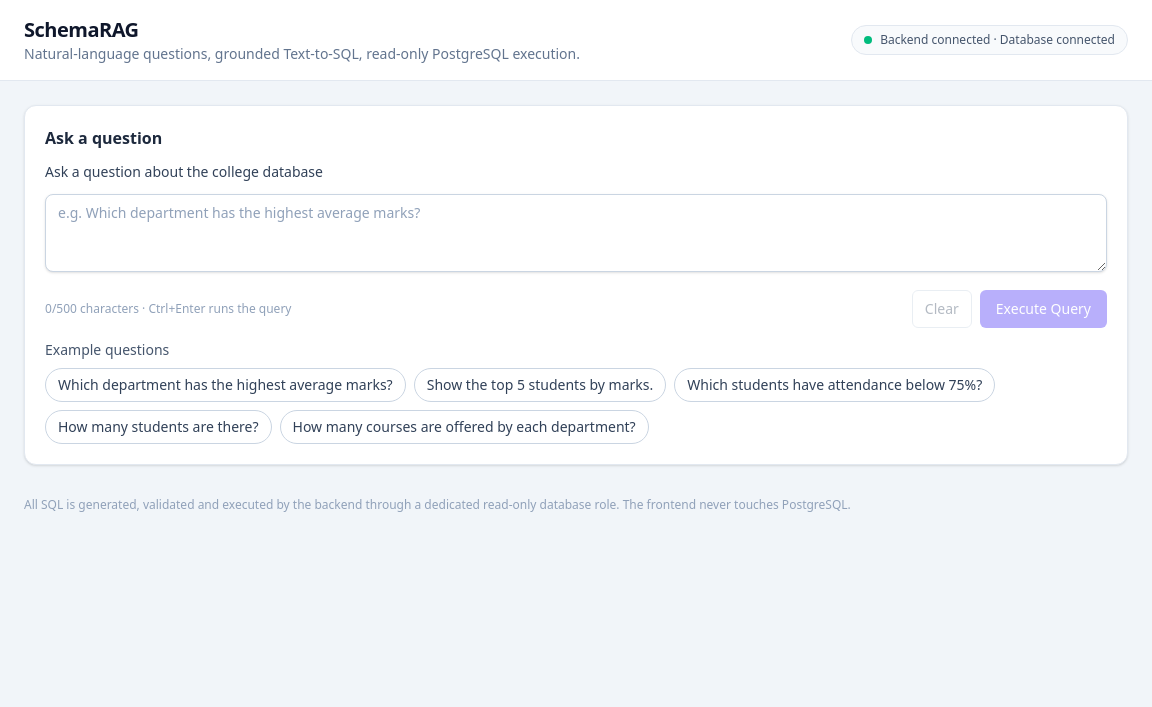
Test case: SchemaRAG App › executes a query through POST /api/query and renders results
Type "How many students are there?" into the text box labelled "Ask a question about the college database" at (576, 233), box [45,194,1107,272]
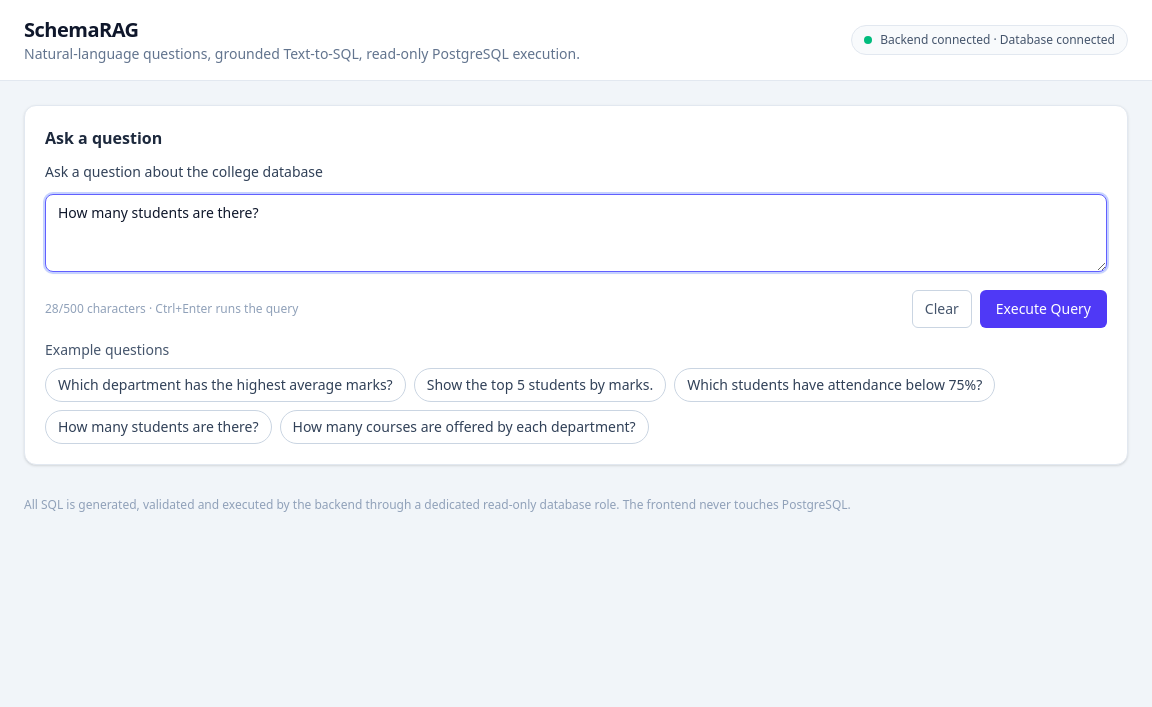
Click the button with test id "execute-button" at (1043, 309), box [980,290,1107,328]
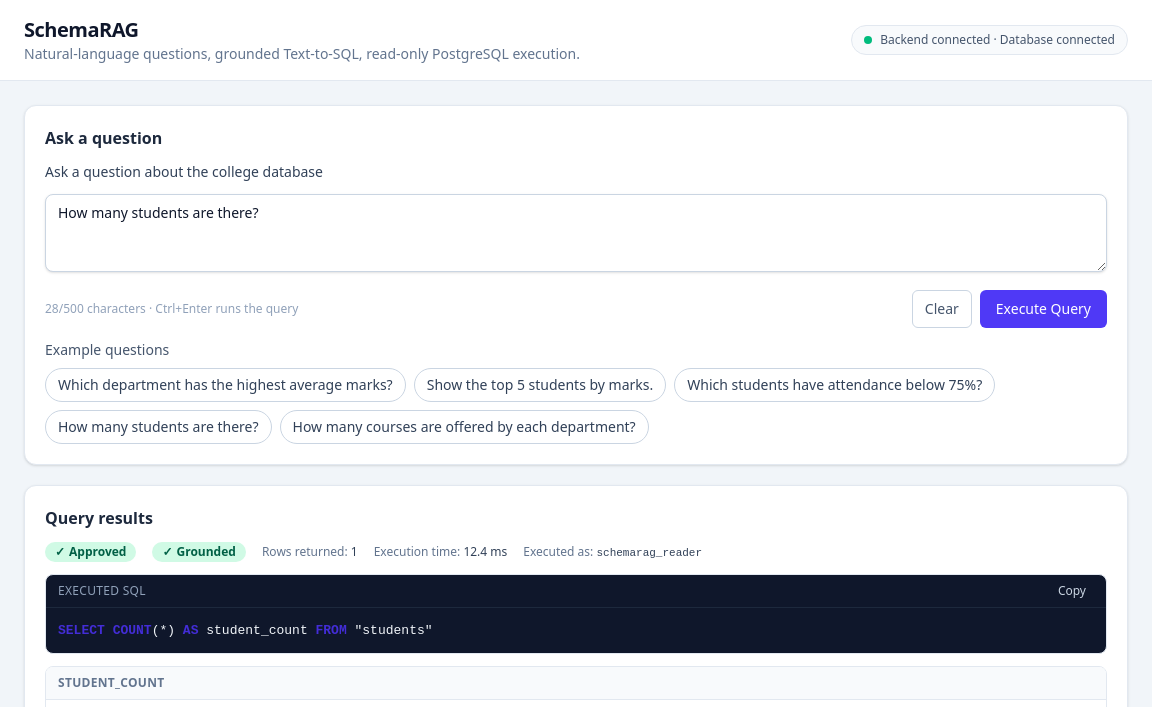
expect the column heading "student_count" is shown: met, box [46,667,1106,700]
expect the text "Approved" is shown: met, box [69,543,126,560]
expect the text "Grounded" is shown: met, box [176,543,236,560]
